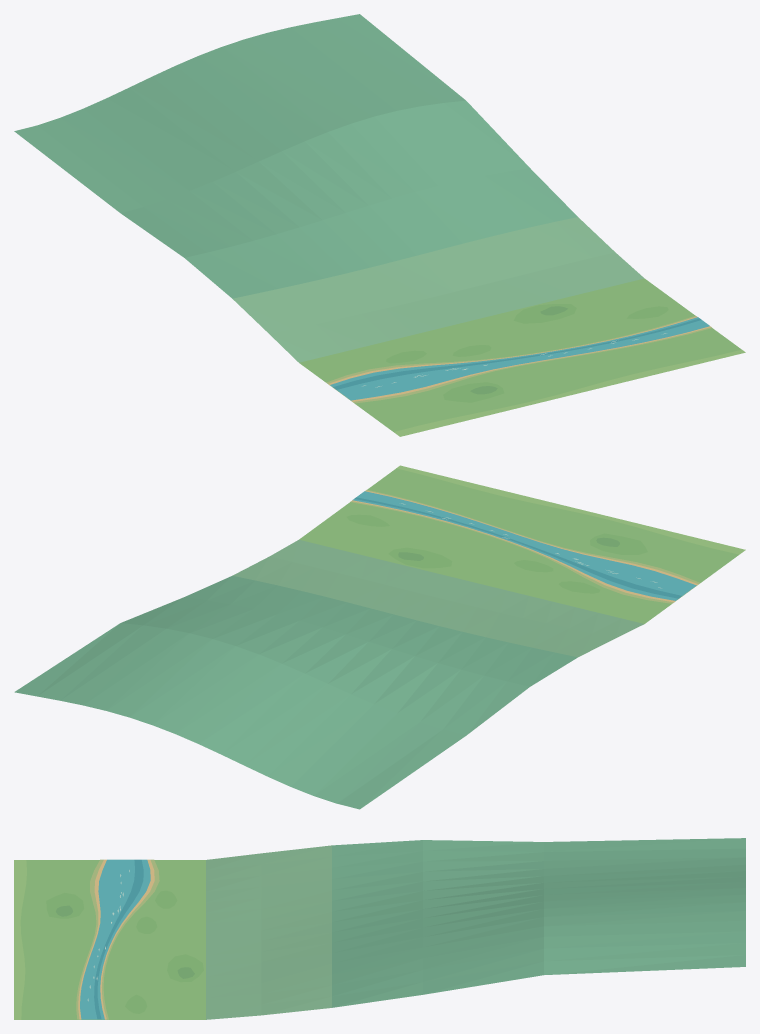
The model's file is Ruisseau_2.fbx.
3 renders of one model, top to bottom at view 1: azimuth 30°, elevation 25°; view 2: azimuth 150°, elevation 25°; view 3: azimuth 270°, elevation 25°, orthographic. The views are drawn at different scales.
Visible parts, largest first — view 1: Ruisseau_2; view 2: Ruisseau_2; view 3: Ruisseau_2.
Part boxes in pixels (x1,y1,x2,y2): Ruisseau_2: (14,14,745,436); Ruisseau_2: (14,465,745,809); Ruisseau_2: (14,838,745,1019).
Bounding box in the file's own units: 7500 × 1238 × 14504.
Materials: 1 (1 with a texture image).
